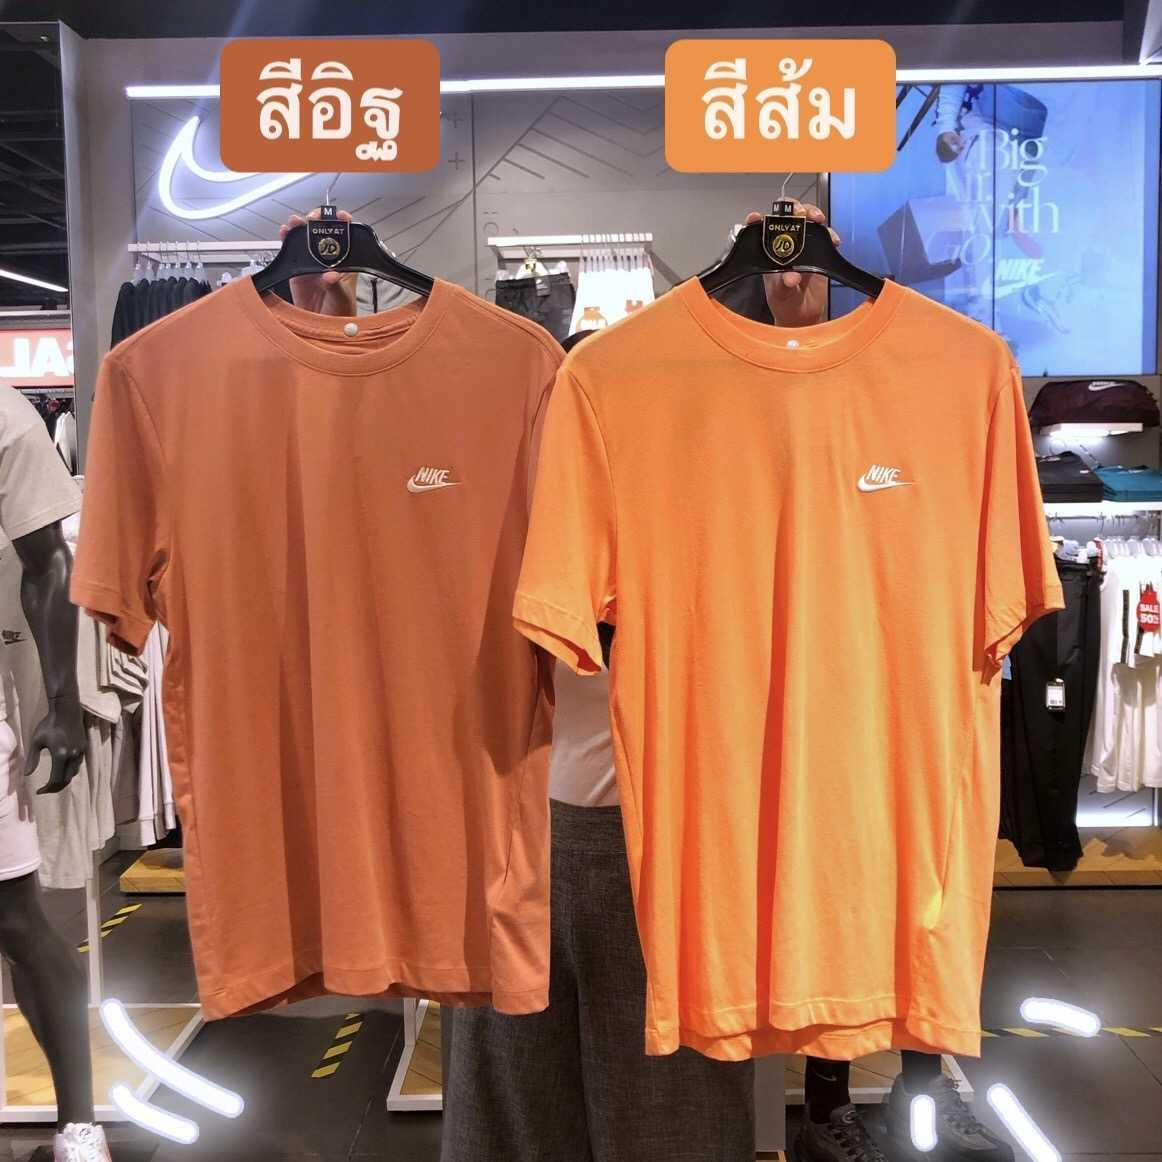Tshirt: (542, 255, 1079, 1079), (53, 282, 604, 1028)
